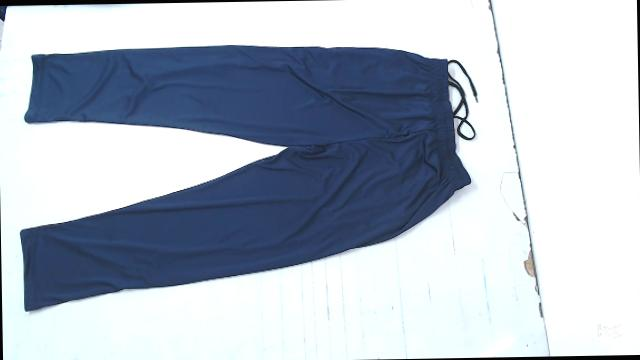new-garment: (21, 45, 470, 310)
